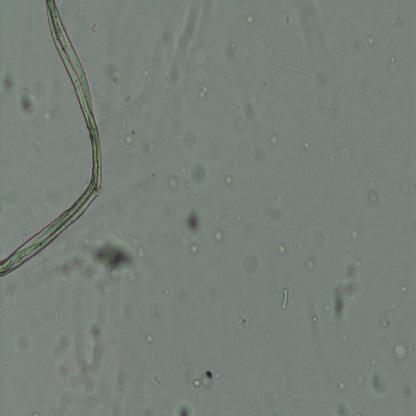Background material: (133, 16, 199, 89), (88, 229, 149, 282), (70, 322, 106, 382), (332, 260, 361, 324), (59, 256, 94, 282), (218, 37, 240, 78), (110, 360, 128, 410), (50, 328, 70, 372), (191, 45, 210, 83), (233, 139, 264, 162), (270, 188, 288, 226), (17, 93, 38, 118), (123, 92, 144, 117), (364, 174, 379, 208), (192, 370, 214, 391), (117, 122, 136, 146), (234, 105, 249, 134), (178, 356, 194, 383), (371, 370, 389, 393), (0, 68, 16, 93), (301, 249, 317, 274), (310, 227, 326, 251), (336, 144, 354, 165), (191, 164, 206, 189), (186, 209, 201, 234), (392, 340, 408, 363), (262, 132, 287, 146), (161, 233, 179, 252), (174, 398, 194, 414), (183, 127, 198, 148), (243, 255, 261, 271), (102, 63, 118, 80), (380, 311, 394, 329), (211, 228, 225, 246), (166, 173, 179, 191), (335, 378, 349, 394), (233, 314, 248, 328), (198, 85, 210, 101), (309, 309, 319, 327), (265, 392, 275, 410), (276, 241, 288, 256), (88, 18, 99, 34), (19, 336, 30, 350), (224, 174, 234, 188), (350, 228, 359, 243), (188, 243, 200, 254), (244, 14, 256, 25), (299, 139, 311, 150), (356, 369, 364, 384), (401, 182, 410, 194), (236, 210, 244, 222), (178, 167, 188, 176), (146, 334, 153, 345), (45, 115, 53, 122), (401, 285, 408, 293)
Cotton: (0, 0, 103, 275)
Glass filter fibre: (264, 58, 354, 134), (375, 17, 402, 59), (280, 289, 289, 312)
